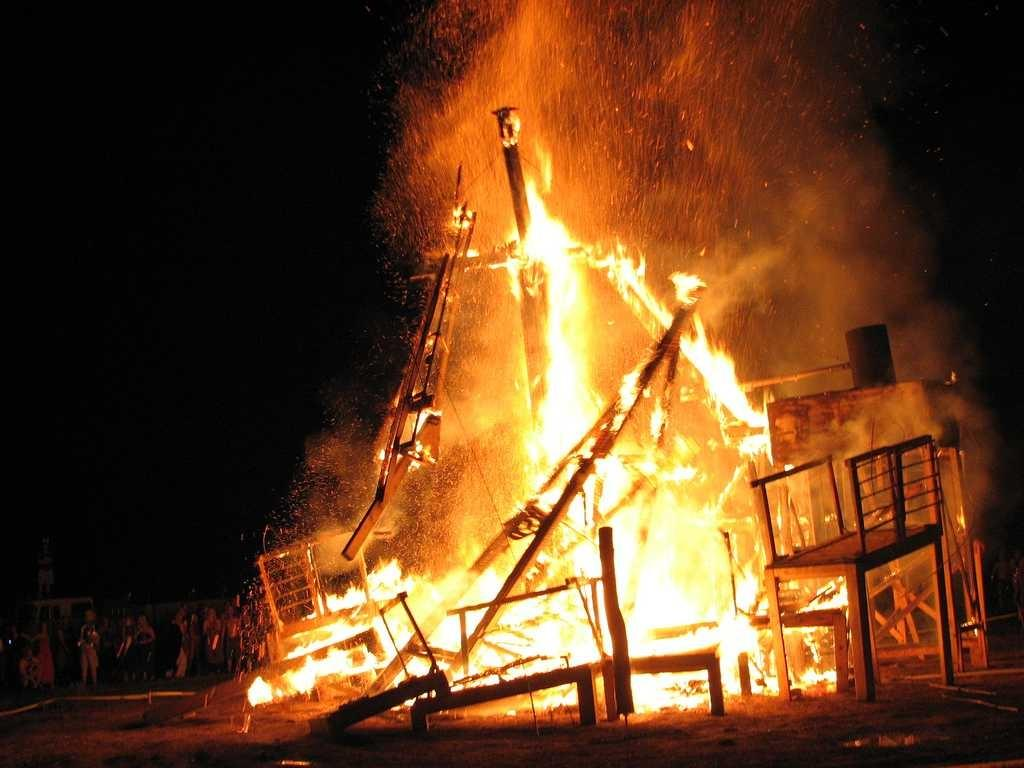fire: (531, 221, 597, 444), (386, 583, 581, 650), (625, 518, 721, 649)
